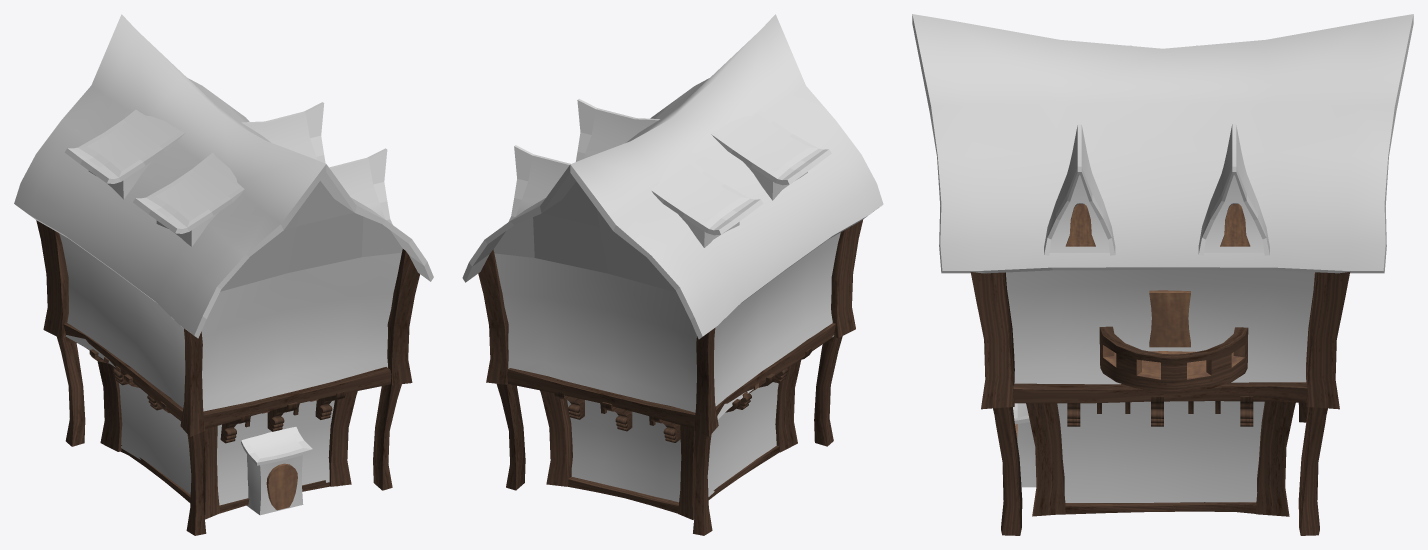
Rendered from Elite2.fbx.
The picture shows the model from 3 angles, left to right: view 1: azimuth 30°, elevation 25°; view 2: azimuth 150°, elevation 25°; view 3: azimuth 270°, elevation 25°; orthographic projection. The views are drawn at different scales.
Visible parts, largest first — view 1: Box1498, Object1823, Object1829, Box1494, Box1467, Object1759, Object1760, Box1493, Object1766, Box1472, Object1762, Object1747 (+9 smaller); view 2: Box1498, Object1823, Object1829, Box1467, Box1494, Object1764, Box1472, Object1765, Object1762, Box1493, Object1751, Object1766 (+8 smaller); view 3: Box1498, Object1823, Object1829, Box1471, Object1761, Object1765, Object1760, Object1751, Object1747, Box1493, Box1472, Object1767 (+8 smaller).
Part boxes in pixels (left/top/right/bottom): Box1498: left=14, top=14, right=433, bottom=338; Object1823: left=59, top=181, right=402, bottom=411; Object1829: left=119, top=383, right=334, bottom=505; Box1494: left=64, top=109, right=185, bottom=183; Box1467: left=133, top=152, right=244, bottom=233; Object1759: left=203, top=367, right=391, bottom=429; Object1760: left=387, top=249, right=419, bottom=385; Box1493: left=241, top=102, right=325, bottom=163; Object1766: left=36, top=220, right=68, bottom=338; Box1472: left=329, top=148, right=392, bottom=224; Object1762: left=180, top=328, right=205, bottom=436; Object1747: left=328, top=391, right=357, bottom=486; Box1498: left=462, top=14, right=883, bottom=339; Object1823: left=493, top=181, right=840, bottom=419; Object1829: left=567, top=382, right=778, bottom=502; Box1467: left=711, top=110, right=831, bottom=185; Box1494: left=651, top=154, right=763, bottom=235; Object1764: left=507, top=368, right=695, bottom=428; Box1472: left=576, top=99, right=659, bottom=161; Object1765: left=478, top=249, right=508, bottom=384; Object1762: left=831, top=219, right=863, bottom=337; Box1493: left=508, top=145, right=570, bottom=221; Object1751: left=540, top=390, right=572, bottom=486; Object1766: left=694, top=328, right=718, bottom=436; Box1498: left=912, top=14, right=1413, bottom=273; Object1823: left=1006, top=270, right=1314, bottom=384; Object1829: left=1057, top=401, right=1264, bottom=502; Box1471: left=1099, top=326, right=1248, bottom=391; Object1761: left=1013, top=382, right=1307, bottom=403; Object1765: left=1306, top=272, right=1349, bottom=409; Object1760: left=970, top=272, right=1014, bottom=409; Object1751: left=1256, top=401, right=1295, bottom=516; Object1747: left=1026, top=403, right=1065, bottom=516; Box1493: left=1198, top=124, right=1269, bottom=255; Box1472: left=1044, top=124, right=1115, bottom=255; Object1767: left=993, top=407, right=1022, bottom=535.
Size of the model in its own units: 572 by 805 by 793.
